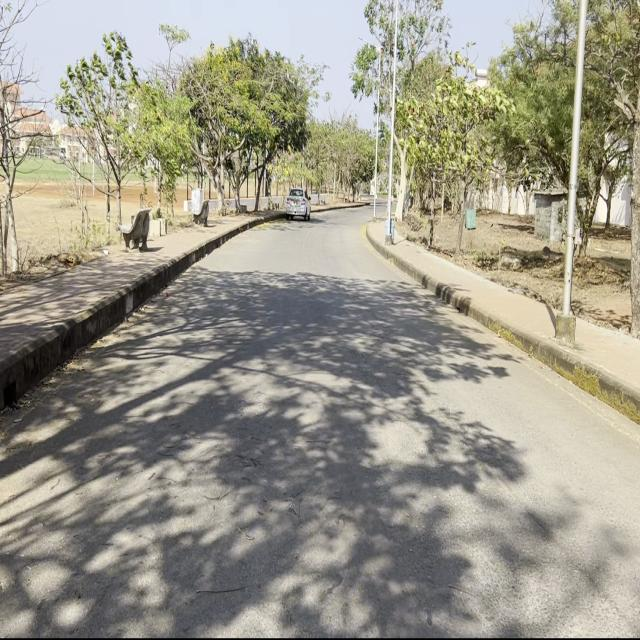Object: (282, 183, 312, 228)
Road: (2, 210, 637, 628)
